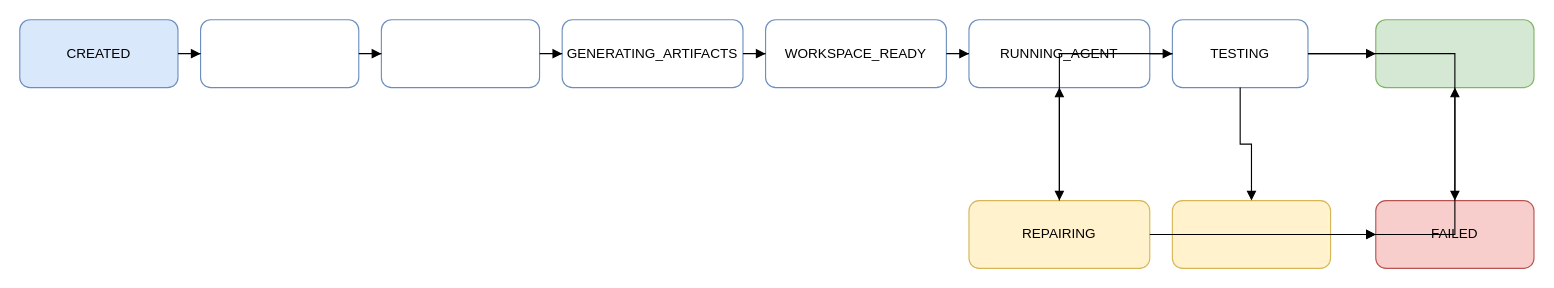
Some shapes in this 1554 by 288 pixel diagram are drawn without their labels. Each missing label, with the centre of its shape:
ANALYZING: (279,53)
COMPLETED: (1454,53)
RAG_SEARCH: (460,53)
VALIDATING: (1251,233)
